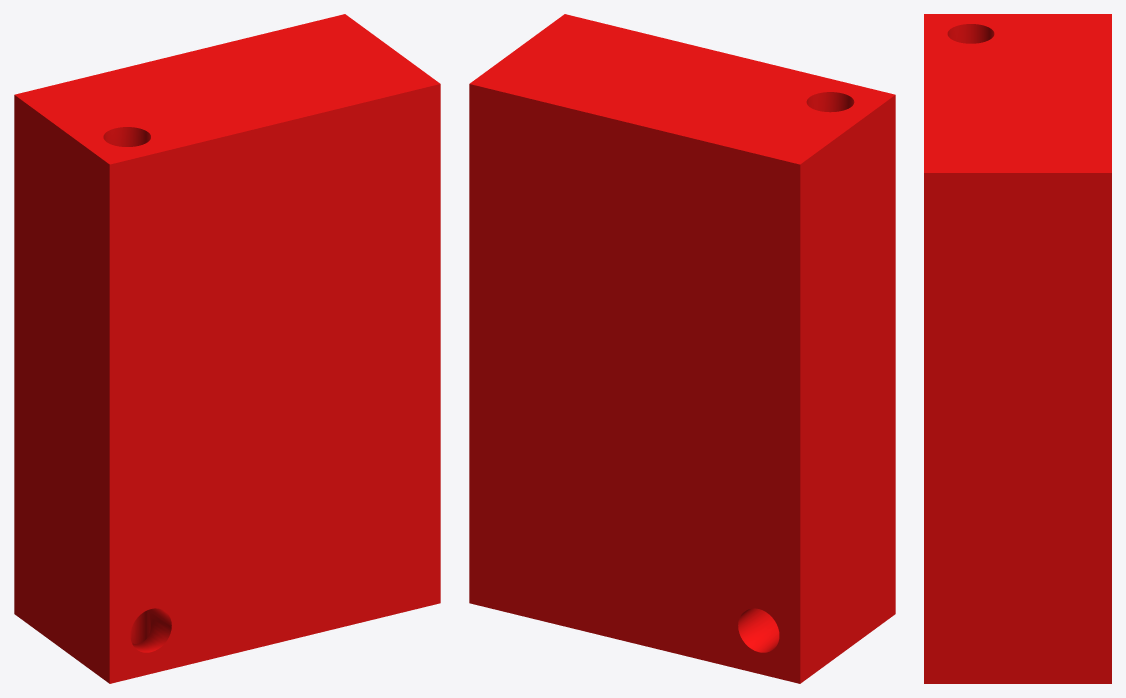
The model's file is asset.glb.
3 views of the same model, side by side, from view 1: azimuth 30°, elevation 25°; view 2: azimuth 150°, elevation 25°; view 3: azimuth 270°, elevation 25° (orthographic).
Visible parts, largest first — view 1: Color:001; view 2: Color:001; view 3: Color:001.
Boxes of the visible parts, bbox=[...] form: Color:001: bbox=[14, 14, 440, 683]; Color:001: bbox=[469, 14, 895, 683]; Color:001: bbox=[924, 14, 1111, 683].
Size of the model in its own units: 102 by 152 by 50.8.
